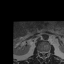CCS_normal: (42, 49, 44, 57)
LFS_normal: (46, 49, 48, 55)
LLS_normal: (44, 49, 46, 55)
RFS_normal: (39, 48, 40, 55)
RLS_normal: (40, 49, 42, 55)
